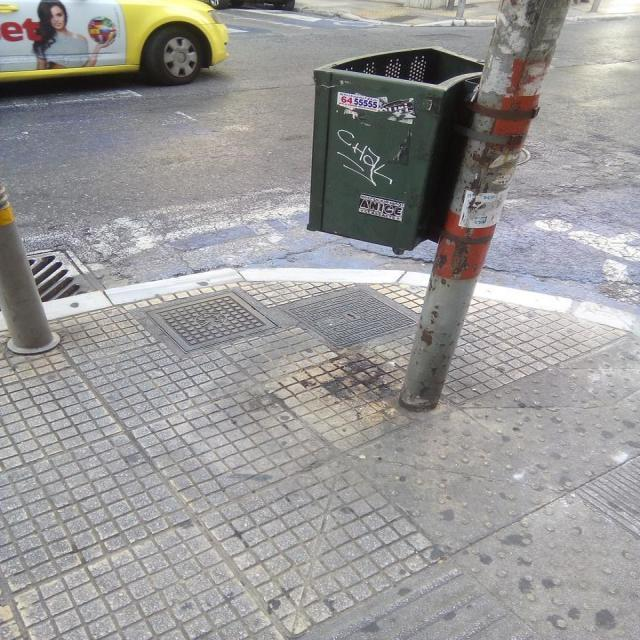nonspitting: (336, 130, 393, 187)
